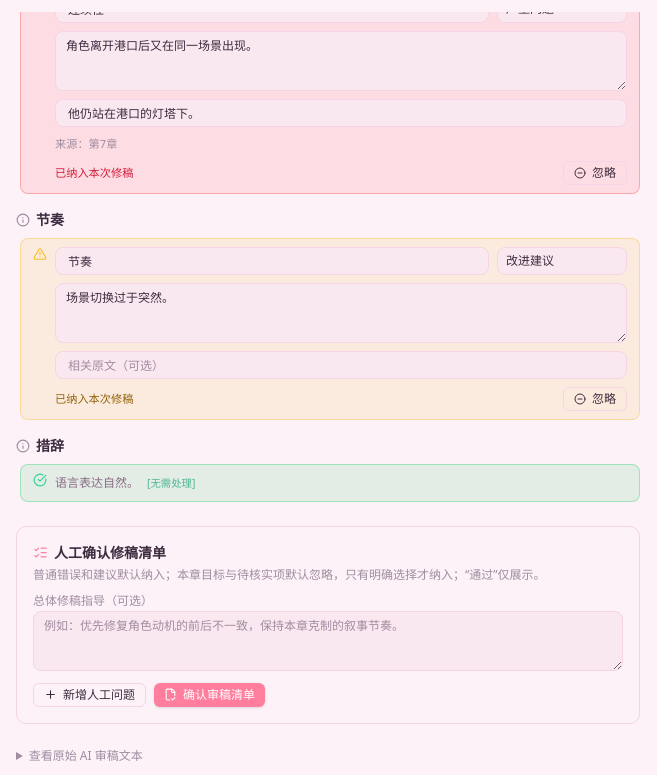
Test case: ReviewReport human-confirmed revision flow › makes a newly added author issue explicitly editable and blocks an empty entry from being silently dropped
Click the button "新增人工问题". click: click(90, 695)
box: left=33, top=683, right=146, bottom=707
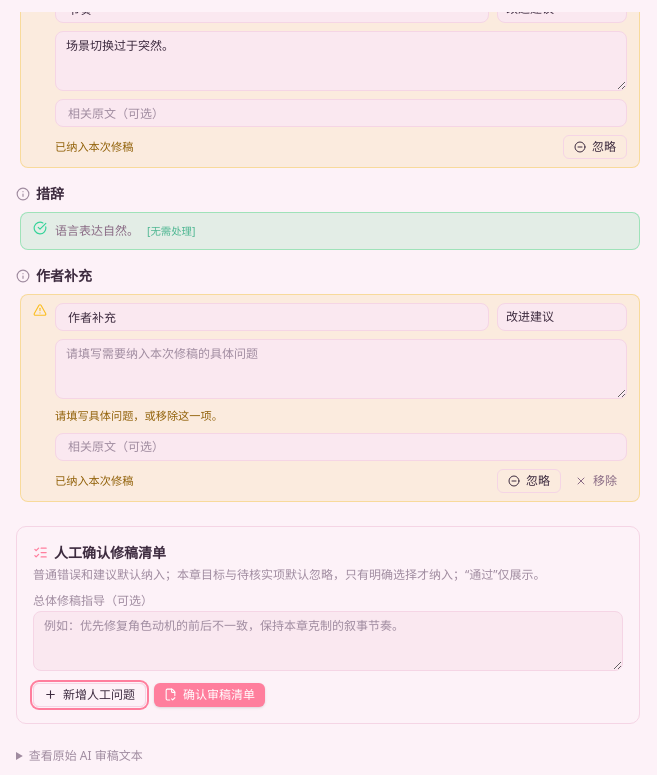
Result: the text "请填写具体问题，或移除这一项。" is shown at left=55, top=408, right=223, bottom=423
Click the button "确认审稿清单". click: click(210, 695)
box: left=154, top=683, right=265, bottom=707
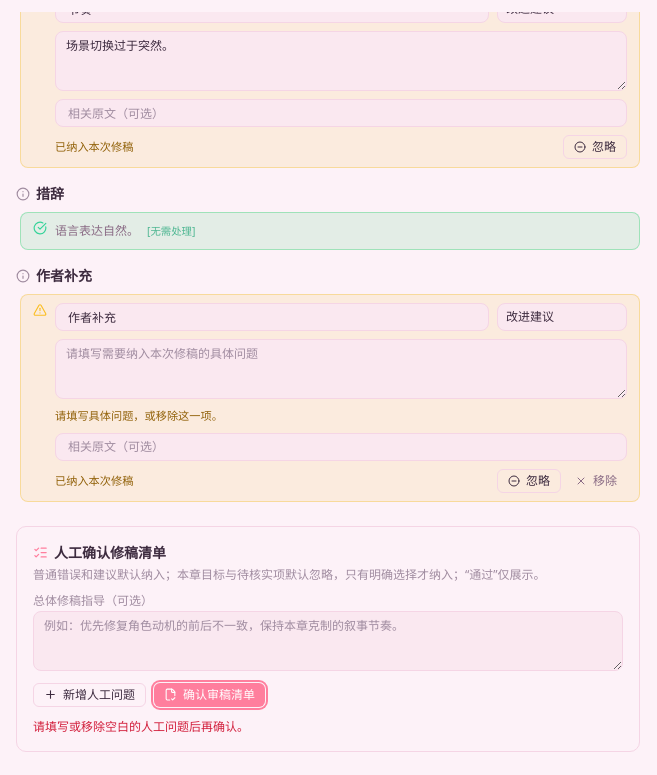
Result: the message shows "请填写或移除空白的人工问题后再确认" at left=33, top=718, right=249, bottom=735
